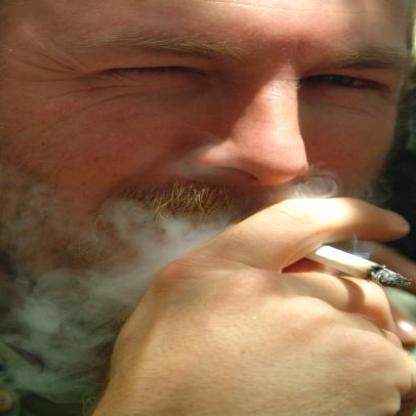cigarette: (304, 244, 412, 289)
person: (0, 0, 415, 415)
smoke: (0, 258, 139, 410)
